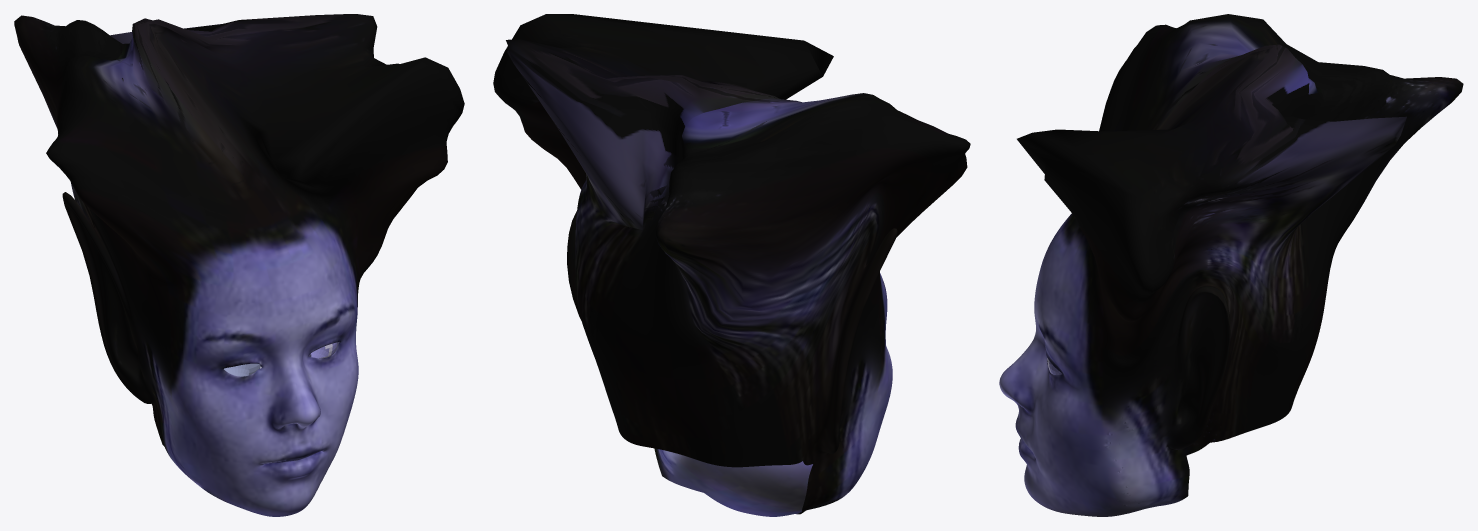
The picture shows the model from 3 angles, left to right: view 1: azimuth 30°, elevation 25°; view 2: azimuth 150°, elevation 25°; view 3: azimuth 270°, elevation 25°; orthographic projection. The views are drawn at different scales.
Parts seen in each view (by area): view 1: Sphere.001; view 2: Sphere.001; view 3: Sphere.001.
Boxes of the visible parts, bbox=[...] form: Sphere.001: bbox=[14, 14, 464, 516]; Sphere.001: bbox=[493, 14, 970, 516]; Sphere.001: bbox=[999, 14, 1463, 516].
Bounding box in the file's own units: 2.72 × 2.69 × 2.56.
Materials: 7 (1 with a texture image).
